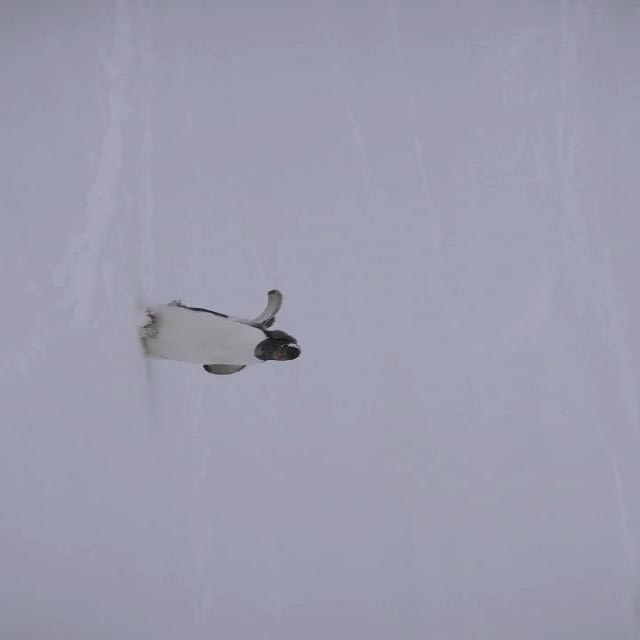penguin: (136, 288, 301, 376)
